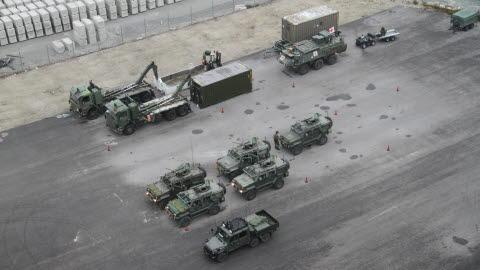armored_car: (200, 208, 280, 262), (274, 26, 346, 76), (163, 178, 227, 224), (227, 154, 290, 200), (145, 162, 208, 206), (275, 112, 333, 154), (215, 137, 272, 177)
